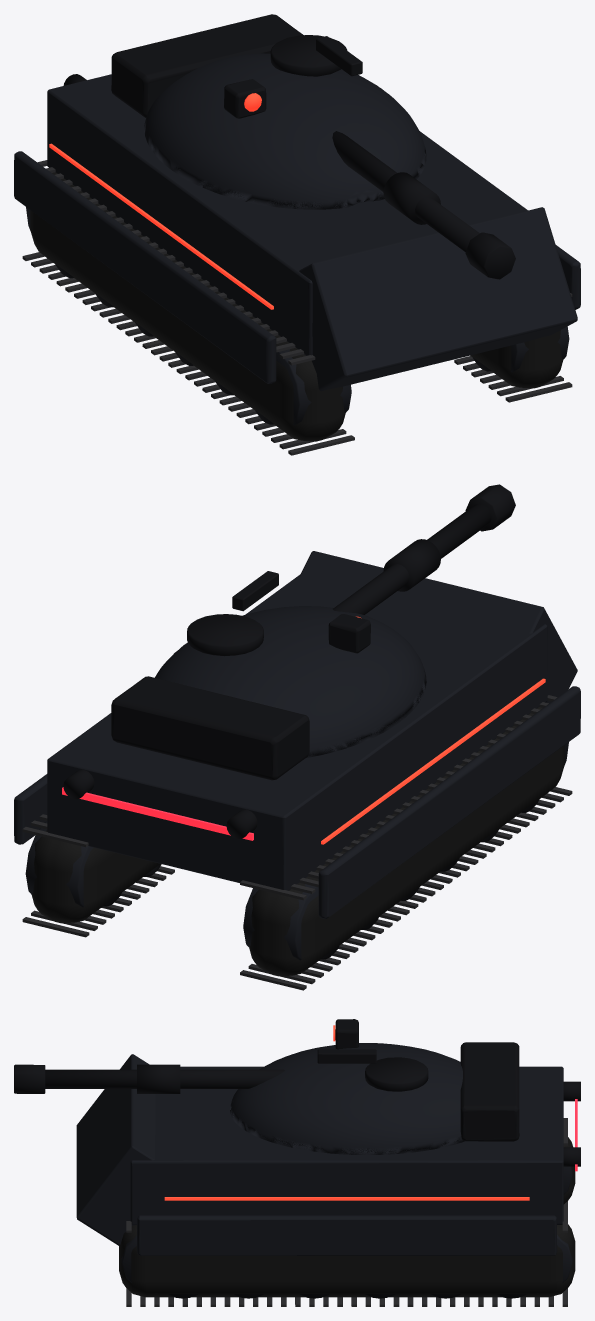
File: kampvogn_nat.glb
3 views of the same model, one above another, from view 1: azimuth 30°, elevation 25°; view 2: azimuth 150°, elevation 25°; view 3: azimuth 270°, elevation 25° (orthographic). The views are drawn at different scales.
Visible parts, largest first — view 1: krop_net; view 2: krop_net; view 3: krop_net.
Part boxes in pixels (x1,y1,x2,y2): krop_net: [14, 14, 580, 455]; krop_net: [14, 484, 580, 990]; krop_net: [14, 1019, 580, 1306].
Size of the model in its own units: 1.17 by 0.937 by 2.23.
